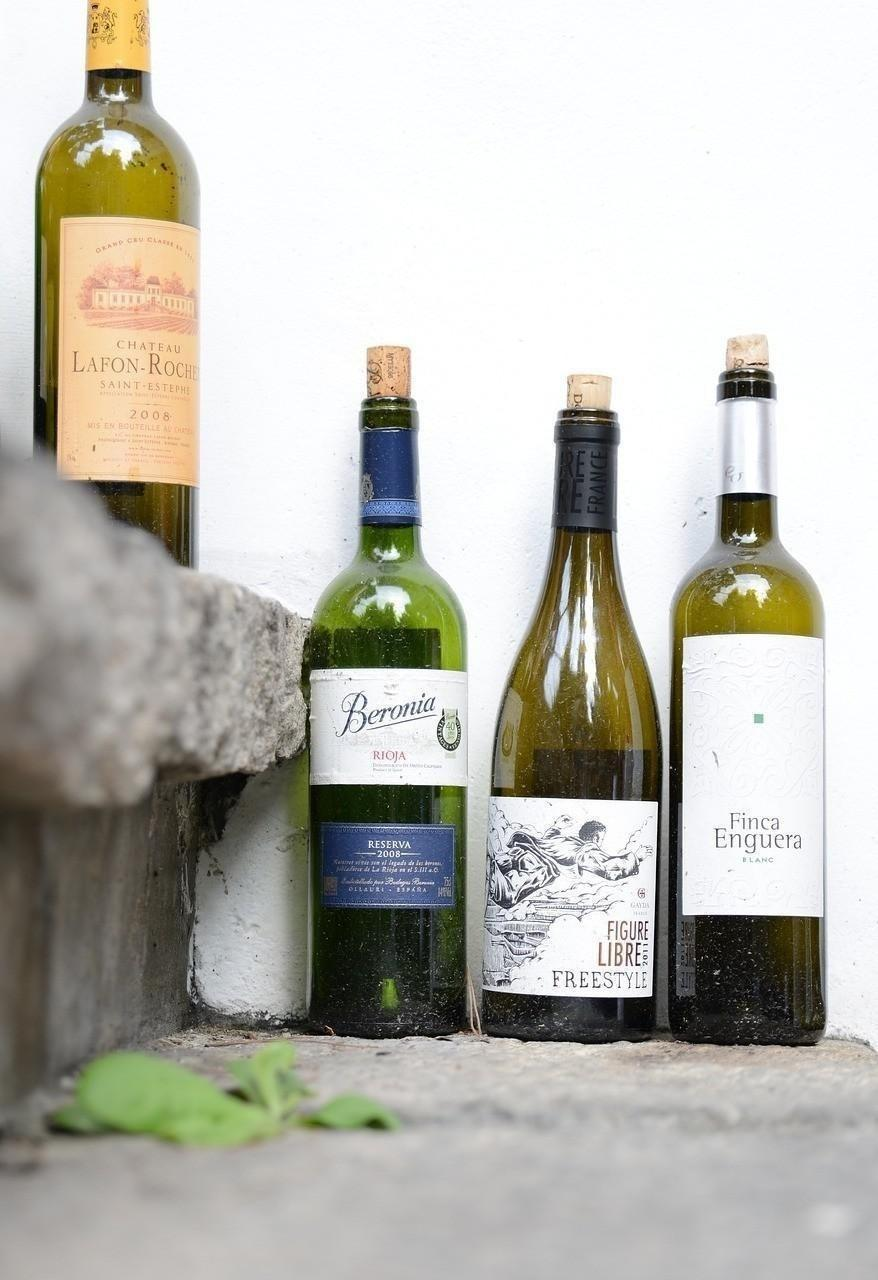bottle-glass: (472, 365, 672, 1049), (650, 325, 837, 1053), (296, 329, 480, 1055), (1, 1, 214, 596)
